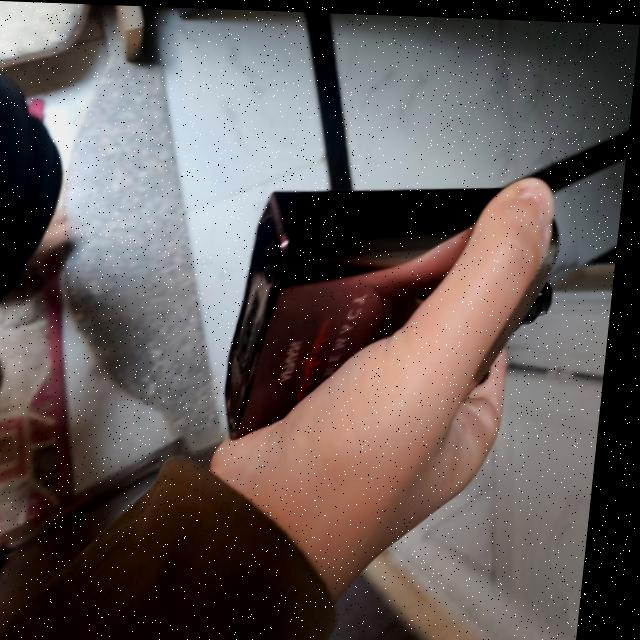Afnan: (229, 172, 572, 449), (526, 275, 561, 323)
